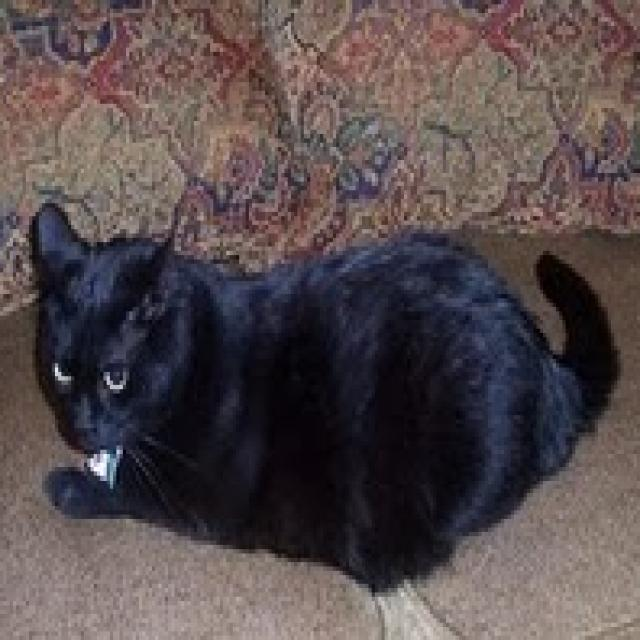Bombay: (26, 200, 622, 590)
